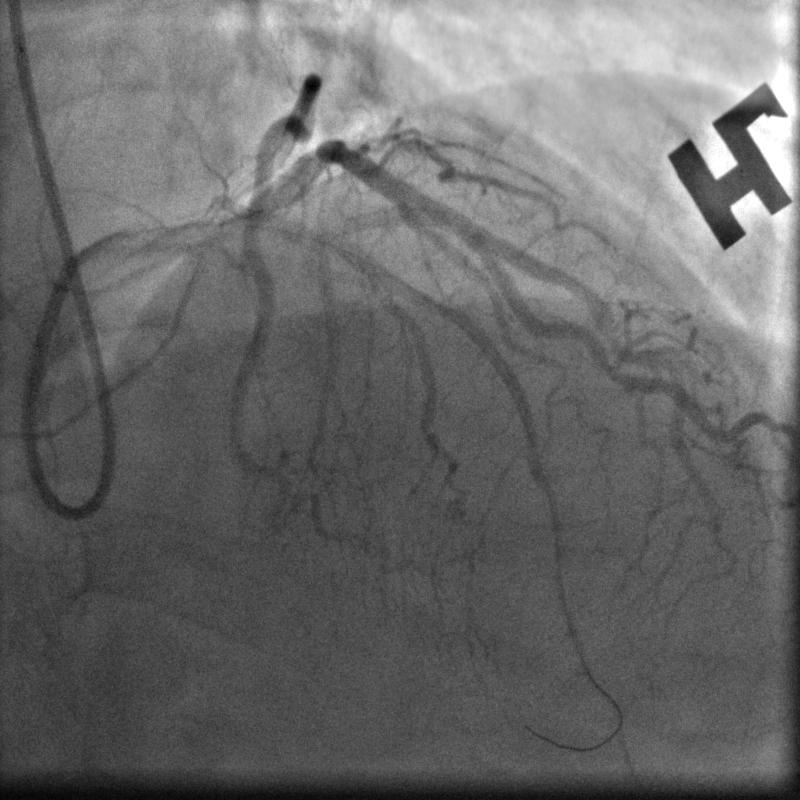Stenosis: (433, 200, 471, 241)
